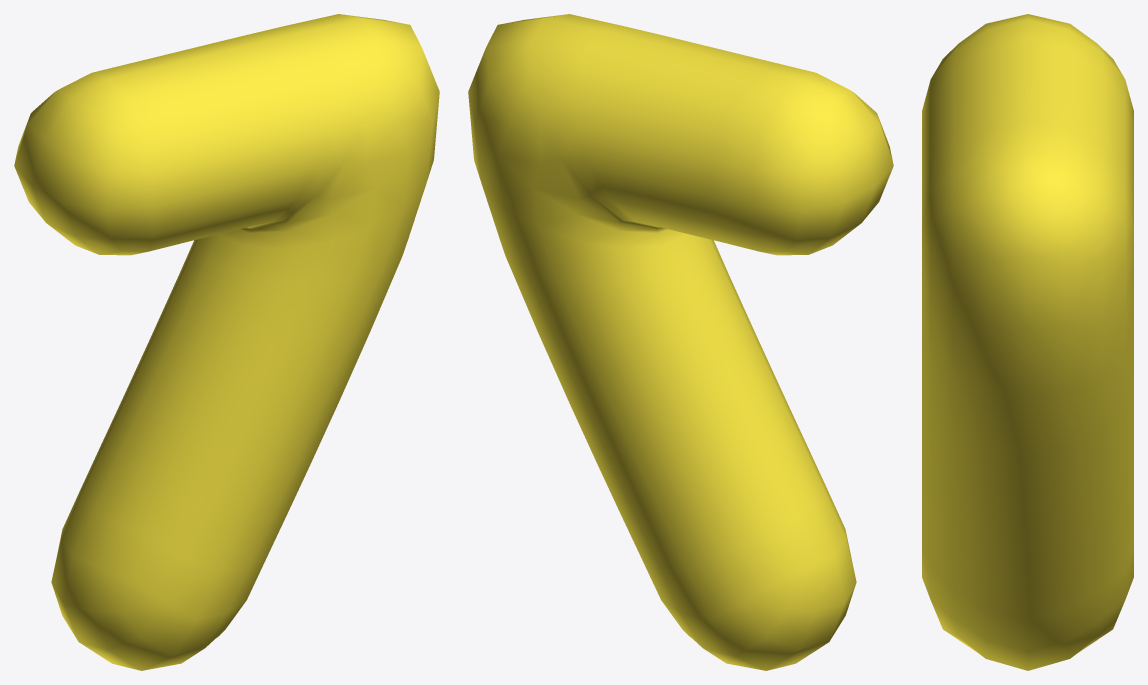
3 renders of one model, left to right at view 1: azimuth 30°, elevation 25°; view 2: azimuth 150°, elevation 25°; view 3: azimuth 270°, elevation 25°, orthographic. The views are drawn at different scales.
Parts seen in each view (by area): view 1: 7_wire_115115115_0; view 2: 7_wire_115115115_0; view 3: 7_wire_115115115_0.
Part boxes in pixels (x1,y1,x2,y2): 7_wire_115115115_0: (14,14,439,670); 7_wire_115115115_0: (468,14,893,670); 7_wire_115115115_0: (922,14,1133,670).
Size of the model in its own units: 36.09 by 51.24 by 15.88.
